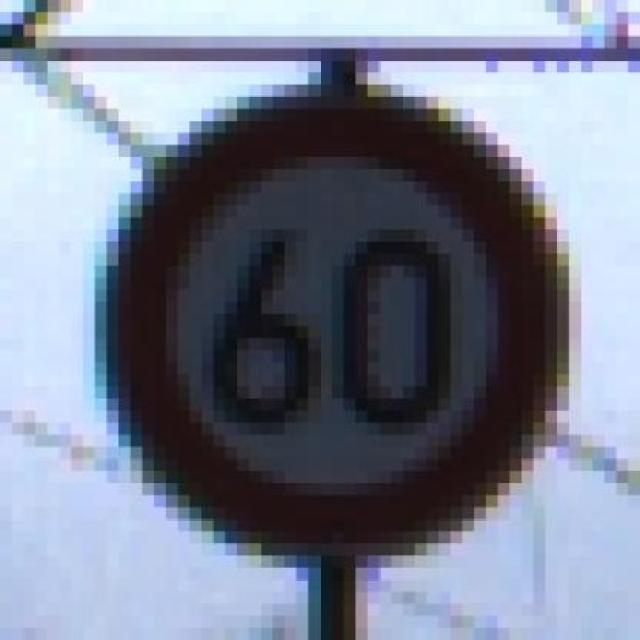forb_speed_over_60: (108, 84, 555, 553)
